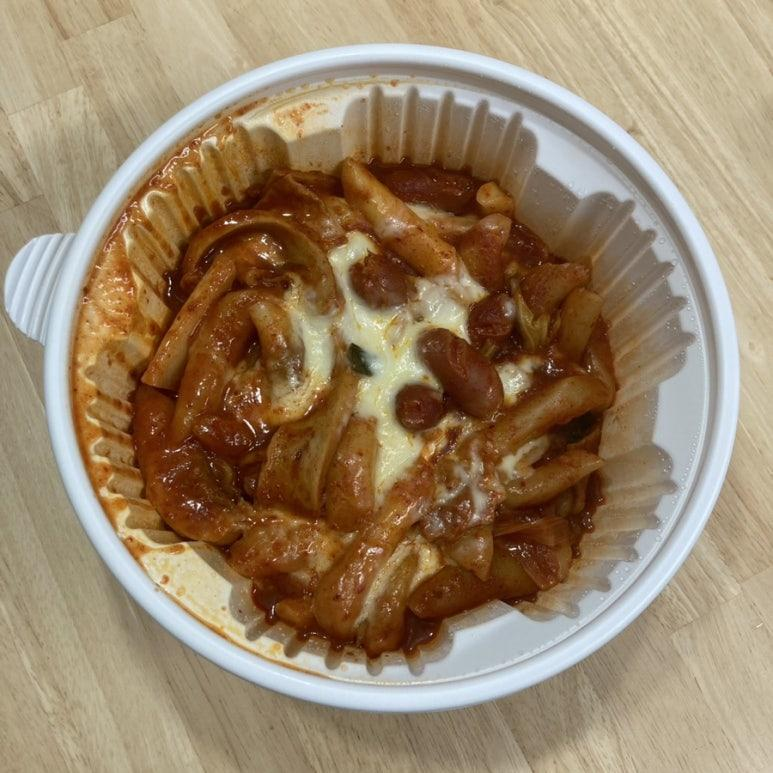Lunch Box: (4, 45, 738, 711)
